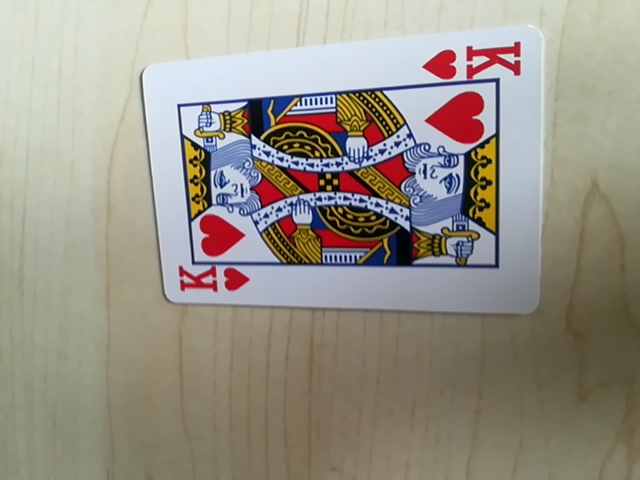hx k: (422, 37, 526, 86), (173, 261, 249, 301)
